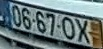0: (10, 4, 22, 27)
6: (34, 9, 46, 34), (20, 6, 31, 30)
7: (45, 12, 56, 36)
O: (60, 15, 76, 40)
X: (74, 17, 90, 45)
